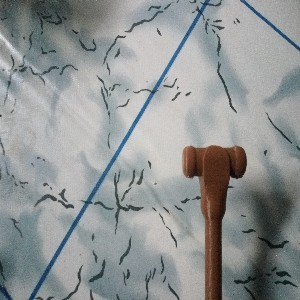palu: (181, 144, 248, 300)
